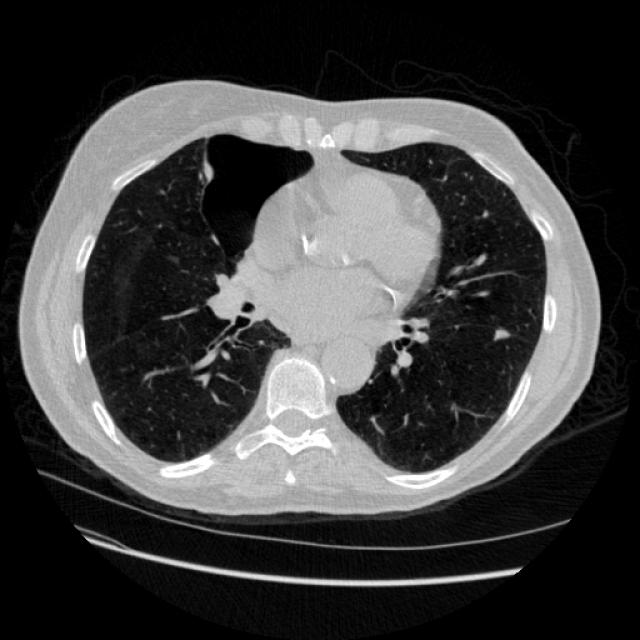nodule: (485, 319, 515, 349)
